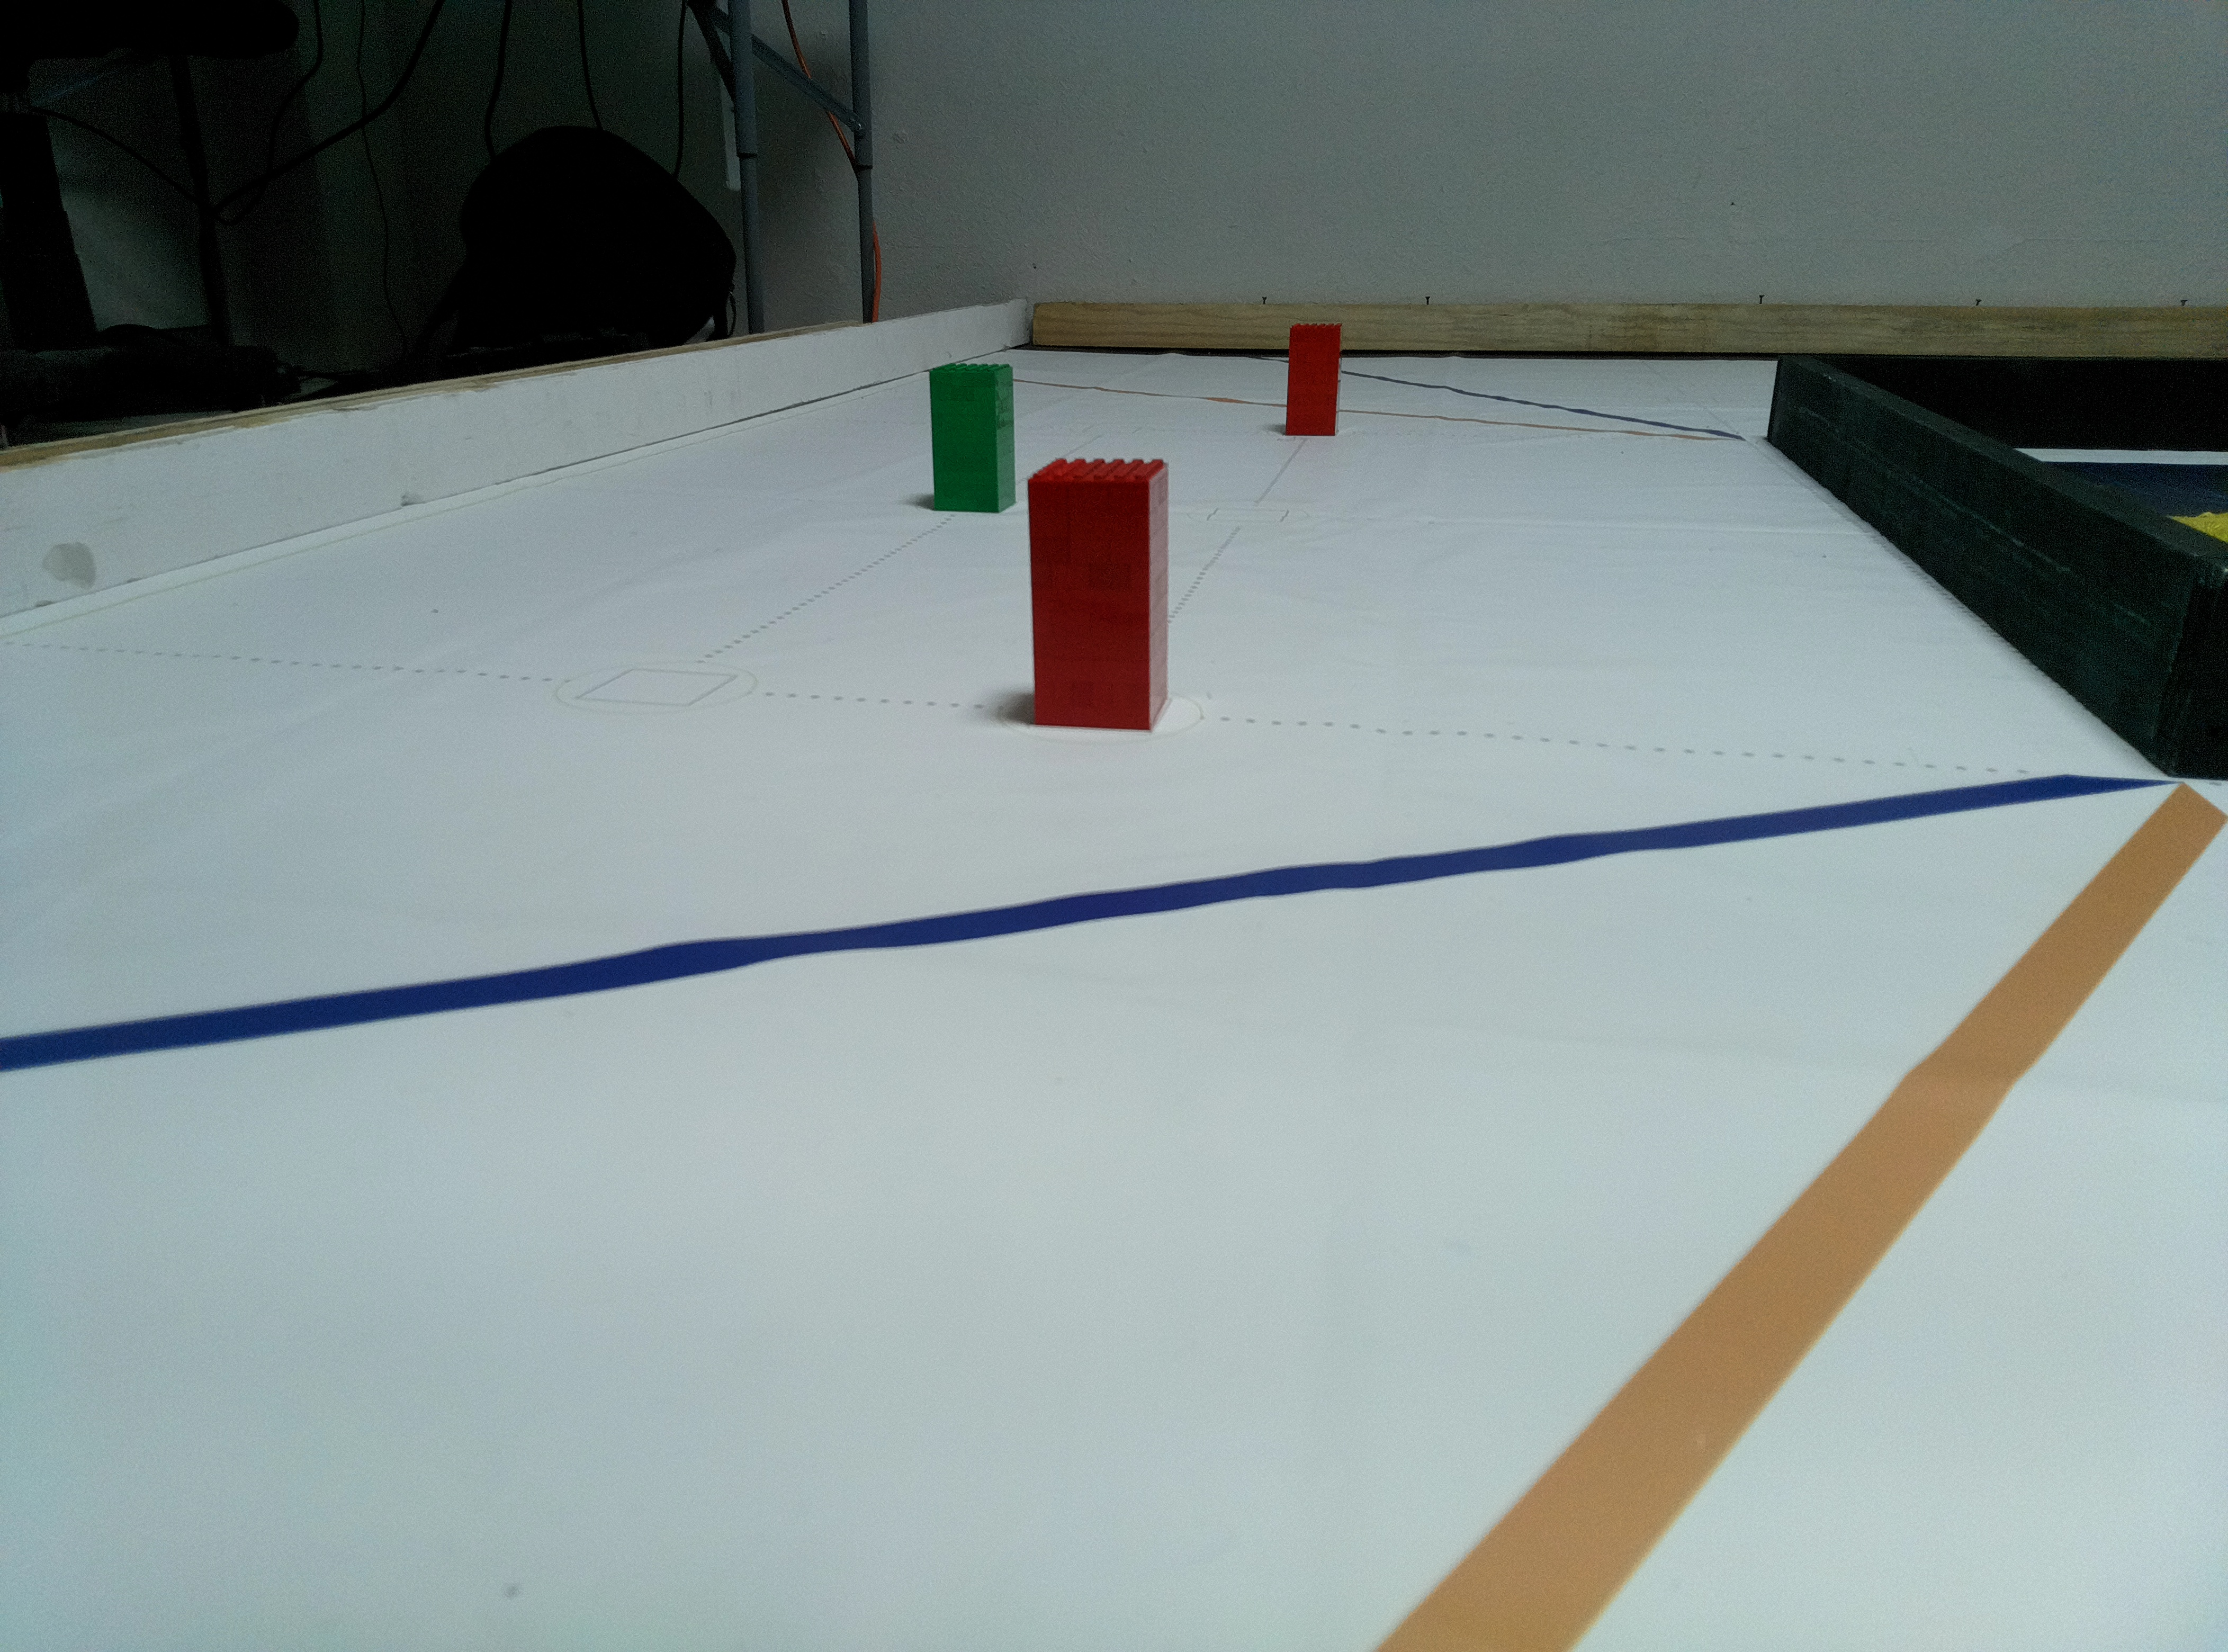greenbox: (925, 363, 1017, 514)
redbox: (1027, 456, 1171, 732), (1282, 321, 1341, 437)
